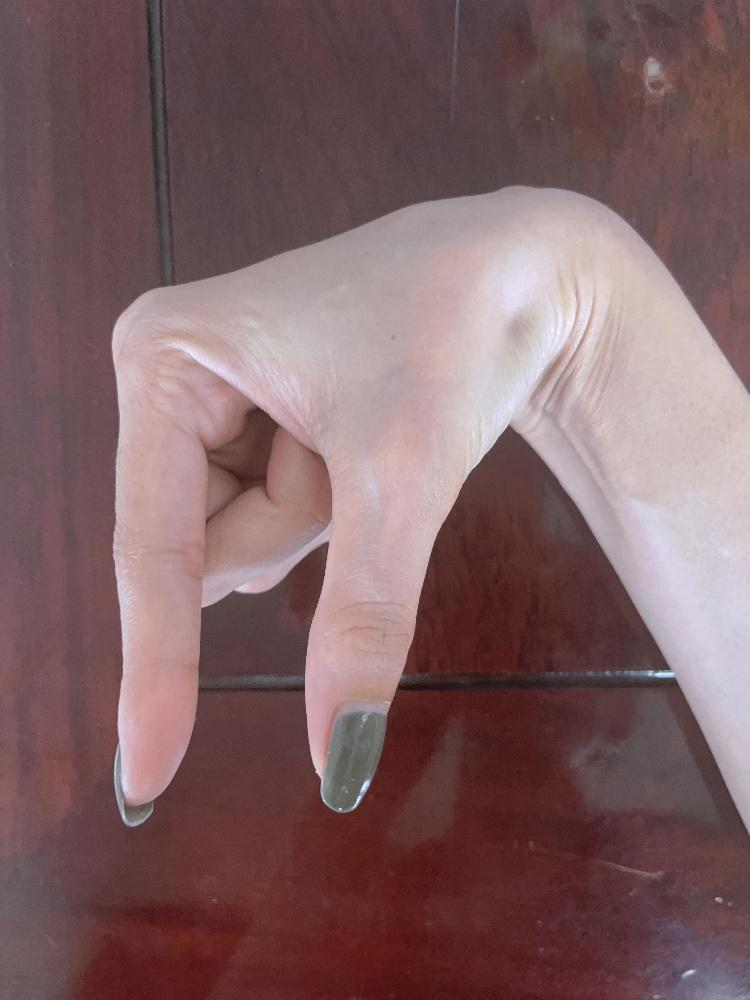q: (107, 181, 538, 817)
